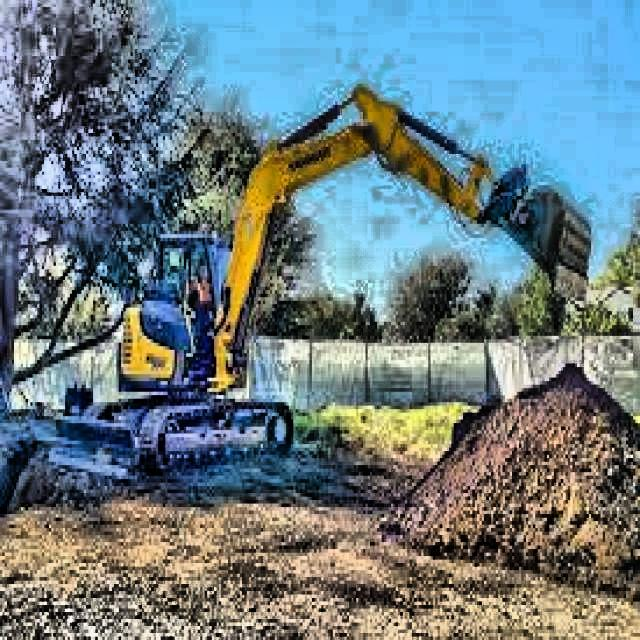bull_dozer/loader/grader: (13, 81, 598, 490)
person: (188, 258, 217, 318)
